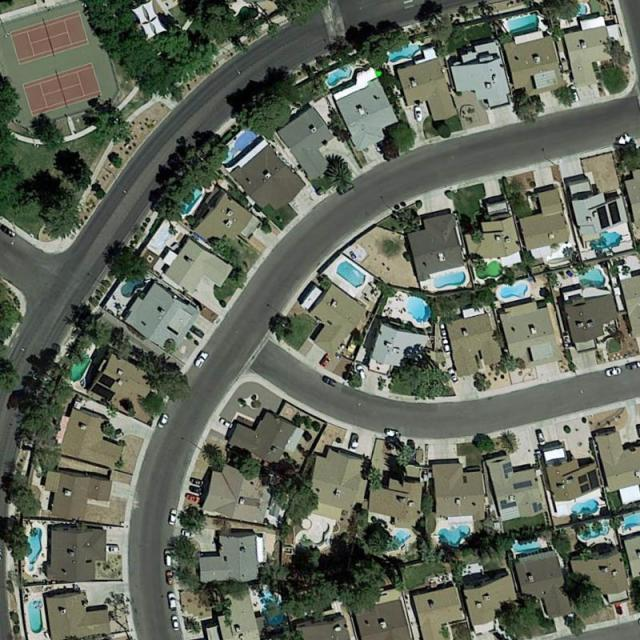vehicle: (195, 352, 208, 369), (321, 374, 338, 387), (184, 492, 202, 504), (385, 427, 402, 439), (605, 366, 622, 378), (447, 368, 459, 385), (167, 509, 178, 526), (167, 593, 178, 610), (321, 353, 333, 368), (1, 225, 14, 238), (190, 326, 204, 338), (158, 414, 169, 428), (615, 602, 626, 616), (349, 433, 358, 450), (414, 105, 423, 122), (186, 486, 205, 494), (356, 365, 366, 380), (164, 548, 172, 566), (165, 570, 174, 586), (181, 528, 197, 537), (171, 614, 179, 631), (571, 85, 579, 102), (219, 418, 234, 427), (536, 430, 545, 445), (111, 430, 124, 440), (442, 338, 450, 353), (189, 478, 203, 486), (626, 362, 640, 370), (106, 545, 118, 553), (349, 250, 357, 260), (440, 323, 446, 336)
